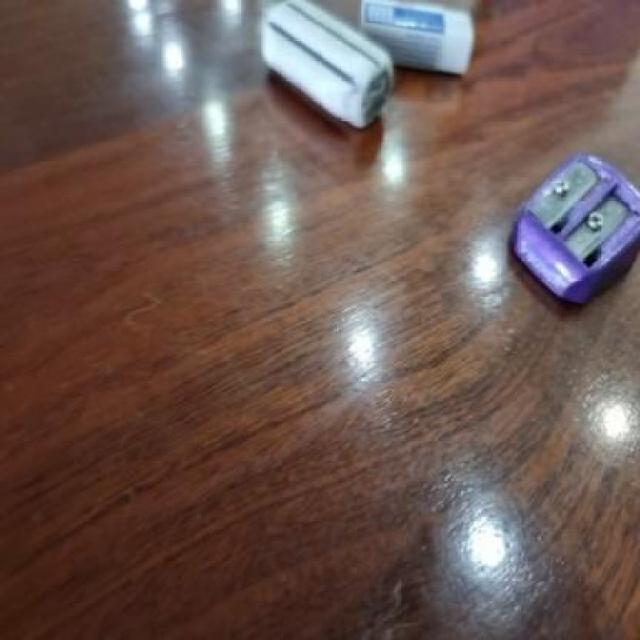not trash: (243, 0, 388, 142), (506, 152, 640, 300), (343, 0, 482, 89)
